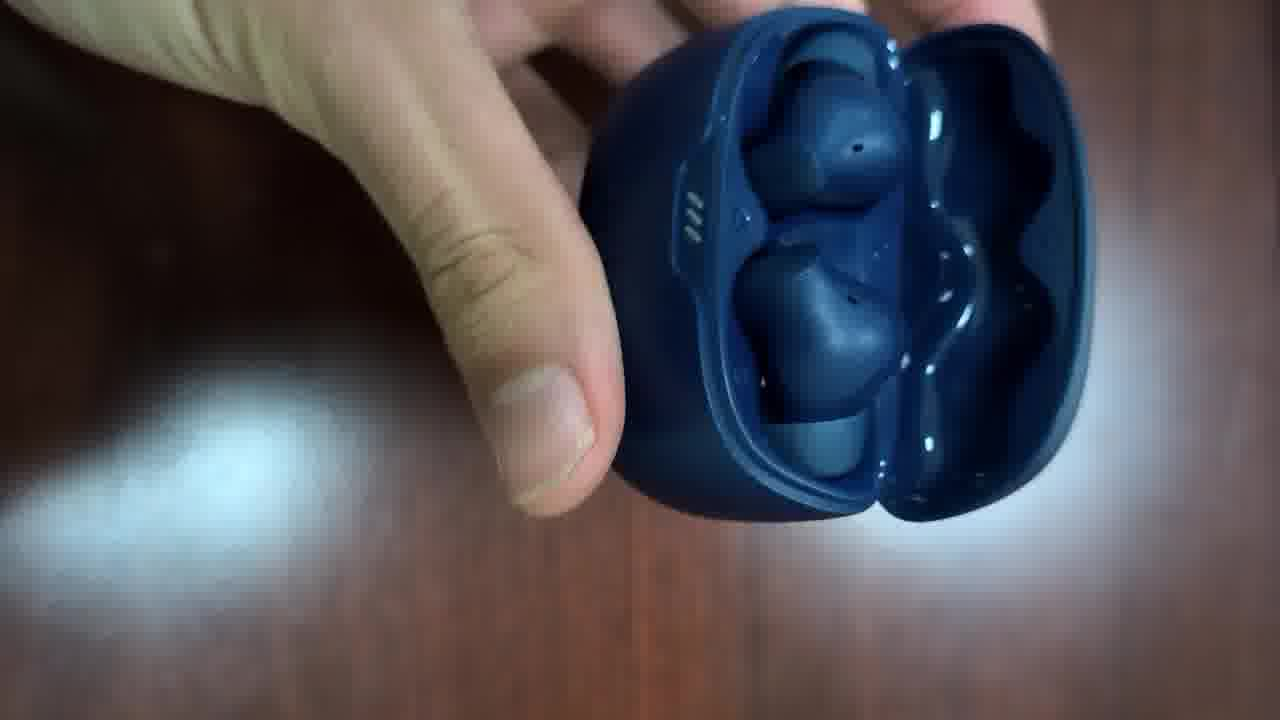Case: (579, 7, 1092, 520)
Earbud: (735, 243, 904, 477), (744, 32, 904, 216)
